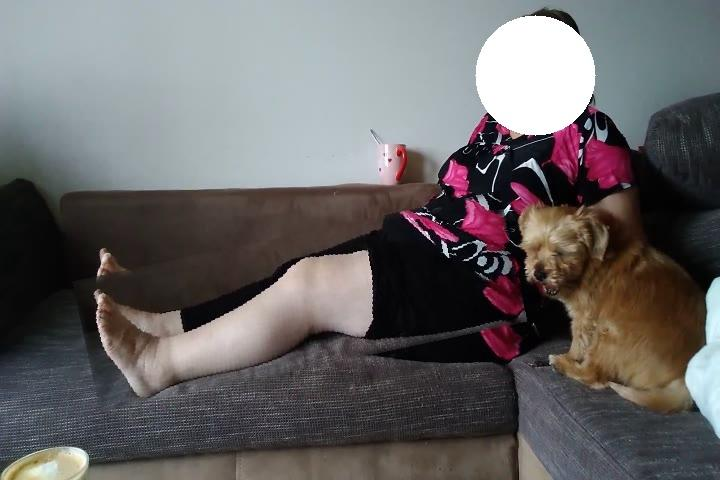lower_body: (78, 214, 524, 392)
